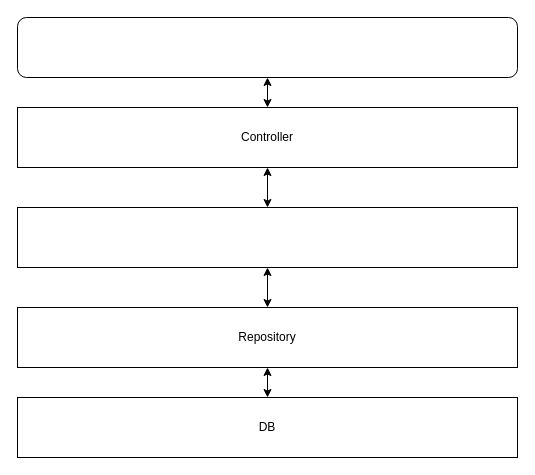
Some shapes in this 535 by 475 pixel diagram are drawn without their labels. The centre of each missing label's shape, as x and y in pixels:
Service: point 267,237
View: point 267,47
